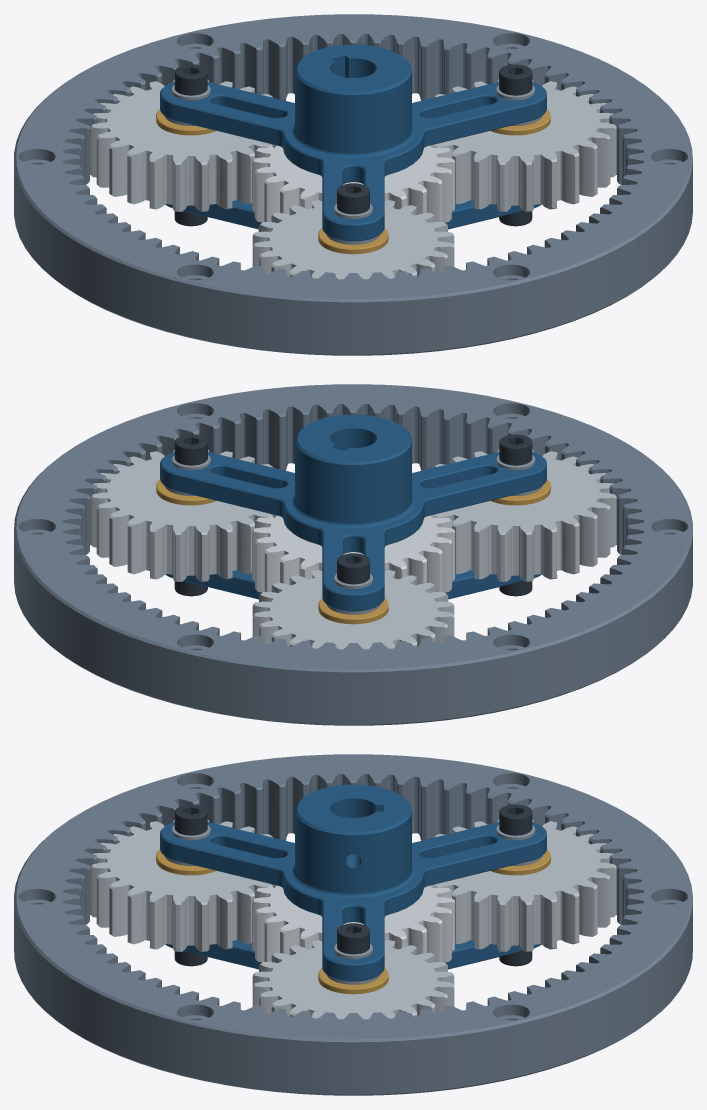
The model's file is replicad-planetary-pbr.glb.
3 views of the same model, one above another, from view 1: azimuth 30°, elevation 25°; view 2: azimuth 150°, elevation 25°; view 3: azimuth 270°, elevation 25° (orthographic).
Visible parts, largest first — view 1: Internal Ring Gear, Carrier Front And Output Hub, Planet Gear 2, Planet Gear 1, Planet Gear 3, Sun Gear And Input Shaft, Carrier Rear, Front Socket Screw 1, Front Socket Screw 2, Front Socket Screw 3, Flanged Bushing 3, Flanged Bushing 1 (+1 smaller); view 2: Internal Ring Gear, Carrier Front And Output Hub, Planet Gear 3, Planet Gear 1, Planet Gear 2, Sun Gear And Input Shaft, Carrier Rear, Front Socket Screw 1, Front Socket Screw 3, Front Socket Screw 2, Flanged Bushing 2, Flanged Bushing 1 (+1 smaller); view 3: Internal Ring Gear, Carrier Front And Output Hub, Planet Gear 2, Planet Gear 3, Planet Gear 1, Sun Gear And Input Shaft, Carrier Rear, Front Socket Screw 2, Front Socket Screw 3, Front Socket Screw 1, Flanged Bushing 1, Flanged Bushing 2 (+1 smaller).
Part boxes in pixels (x1=…): Internal Ring Gear: x1=14, y1=14, x2=692, y2=355; Carrier Front And Output Hub: x1=160, y1=44, x2=546, y2=241; Planet Gear 2: x1=90, y1=79, x2=272, y2=211; Planet Gear 1: x1=433, y1=80, x2=616, y2=211; Planet Gear 3: x1=252, y1=200, x2=454, y2=279; Sun Gear And Input Shaft: x1=252, y1=144, x2=454, y2=222; Carrier Rear: x1=165, y1=200, x2=541, y2=229; Front Socket Screw 1: x1=499, y1=64, x2=532, y2=95; Front Socket Screw 2: x1=174, y1=64, x2=207, y2=95; Front Socket Screw 3: x1=337, y1=183, x2=369, y2=214; Flanged Bushing 3: x1=318, y1=228, x2=388, y2=254; Flanged Bushing 1: x1=490, y1=109, x2=550, y2=135; Internal Ring Gear: x1=14, y1=384, x2=692, y2=725; Carrier Front And Output Hub: x1=160, y1=414, x2=546, y2=611; Planet Gear 3: x1=434, y1=449, x2=616, y2=581; Planet Gear 1: x1=90, y1=450, x2=273, y2=581; Planet Gear 2: x1=252, y1=570, x2=454, y2=649; Sun Gear And Input Shaft: x1=252, y1=514, x2=454, y2=592; Carrier Rear: x1=165, y1=570, x2=541, y2=599; Front Socket Screw 1: x1=174, y1=434, x2=207, y2=465; Front Socket Screw 3: x1=499, y1=434, x2=532, y2=465; Front Socket Screw 2: x1=337, y1=553, x2=369, y2=584; Flanged Bushing 2: x1=318, y1=598, x2=388, y2=624; Flanged Bushing 1: x1=156, y1=479, x2=216, y2=505; Internal Ring Gear: x1=14, y1=754, x2=692, y2=1095; Carrier Front And Output Hub: x1=160, y1=784, x2=546, y2=981; Planet Gear 2: x1=433, y1=819, x2=616, y2=951; Planet Gear 3: x1=90, y1=819, x2=273, y2=951; Planet Gear 1: x1=252, y1=940, x2=454, y2=1019; Sun Gear And Input Shaft: x1=252, y1=884, x2=454, y2=962; Carrier Rear: x1=165, y1=940, x2=541, y2=969; Front Socket Screw 2: x1=499, y1=804, x2=532, y2=835; Front Socket Screw 3: x1=174, y1=804, x2=207, y2=835; Front Socket Screw 1: x1=337, y1=923, x2=369, y2=954; Flanged Bushing 1: x1=318, y1=968, x2=388, y2=994; Flanged Bushing 2: x1=490, y1=849, x2=550, y2=875.
Size of the model in its own units: 0.1739 by 0.068 by 0.174.
